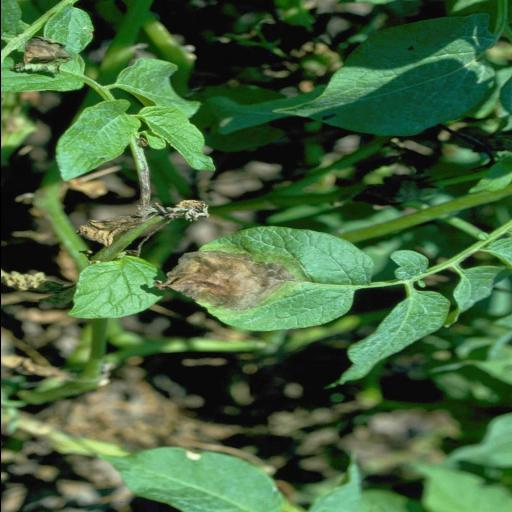disease_tomato: (146, 223, 376, 330)
